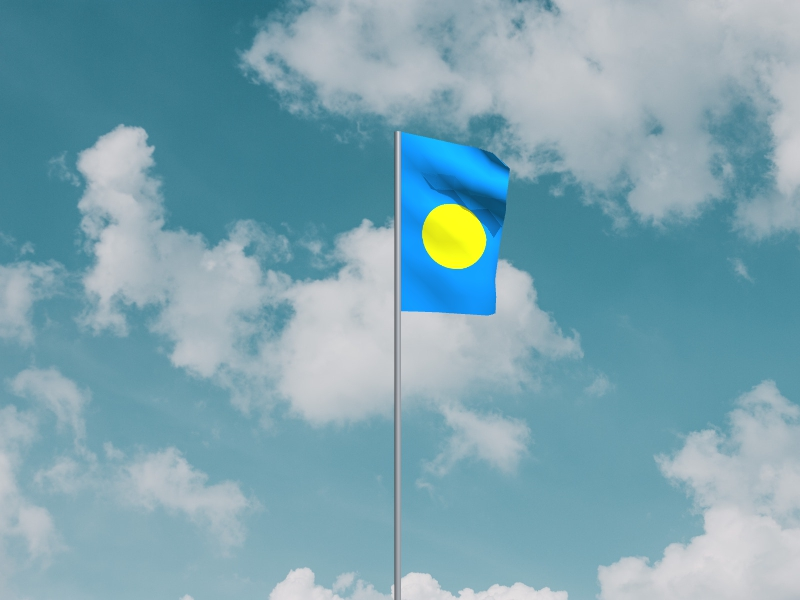pw: (401, 133, 512, 317)
